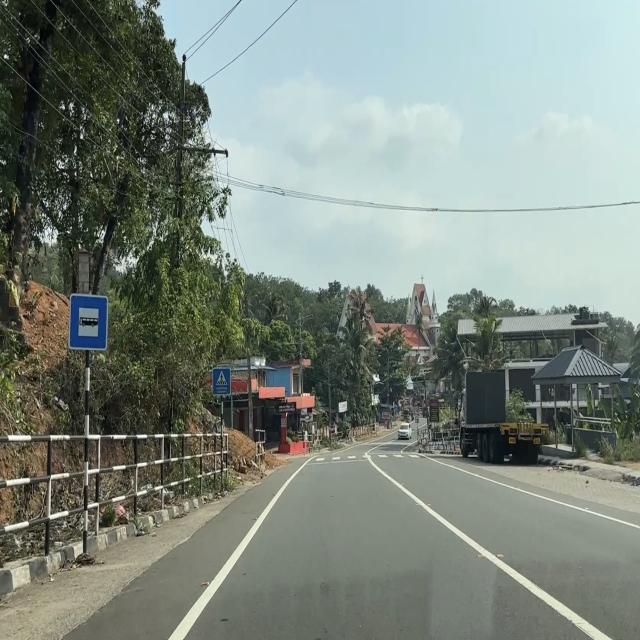INFORMATION: (68, 291, 108, 352)
PEDESTRIAN_CROSSING: (212, 366, 231, 396)
